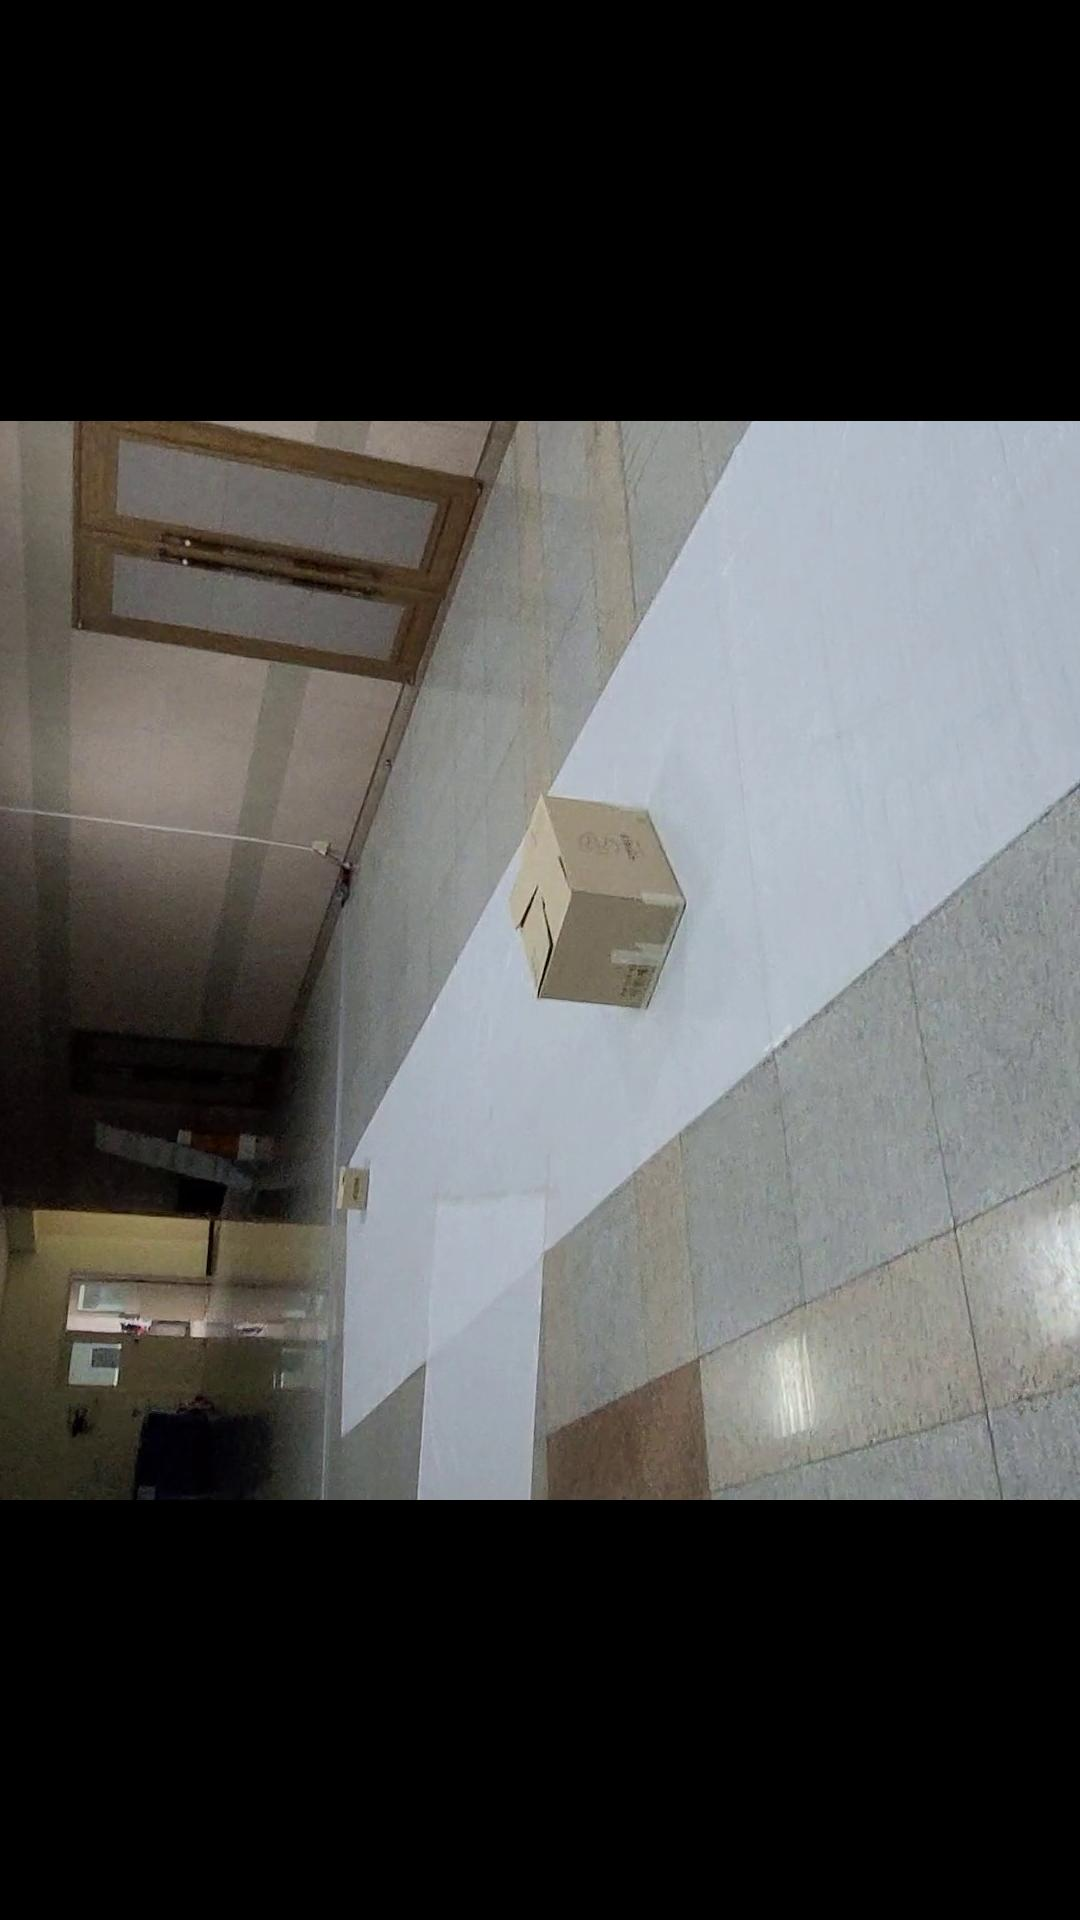Box: (500, 798, 690, 1009), (330, 1162, 377, 1209)
